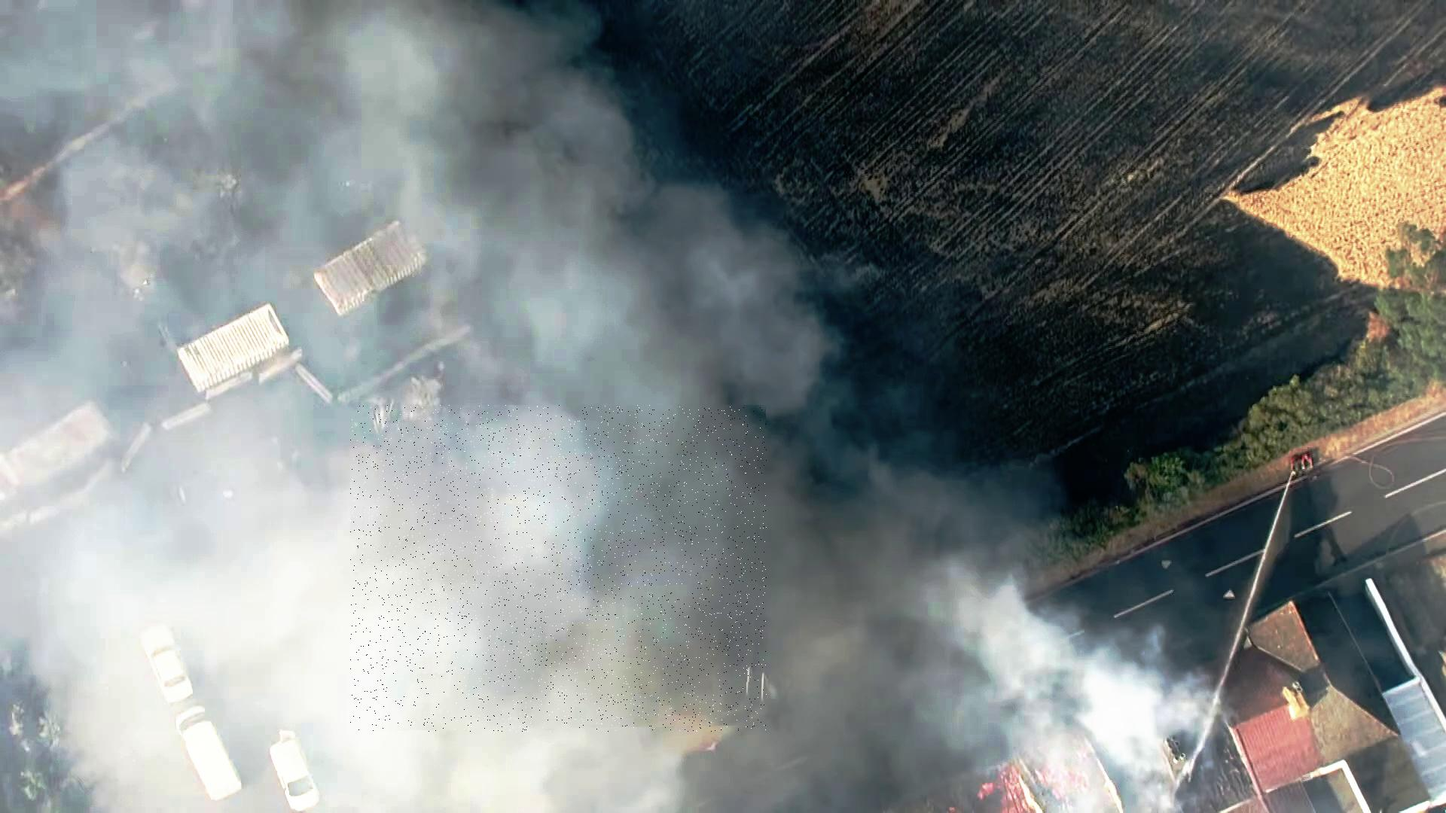smoke: (350, 405, 767, 732)
